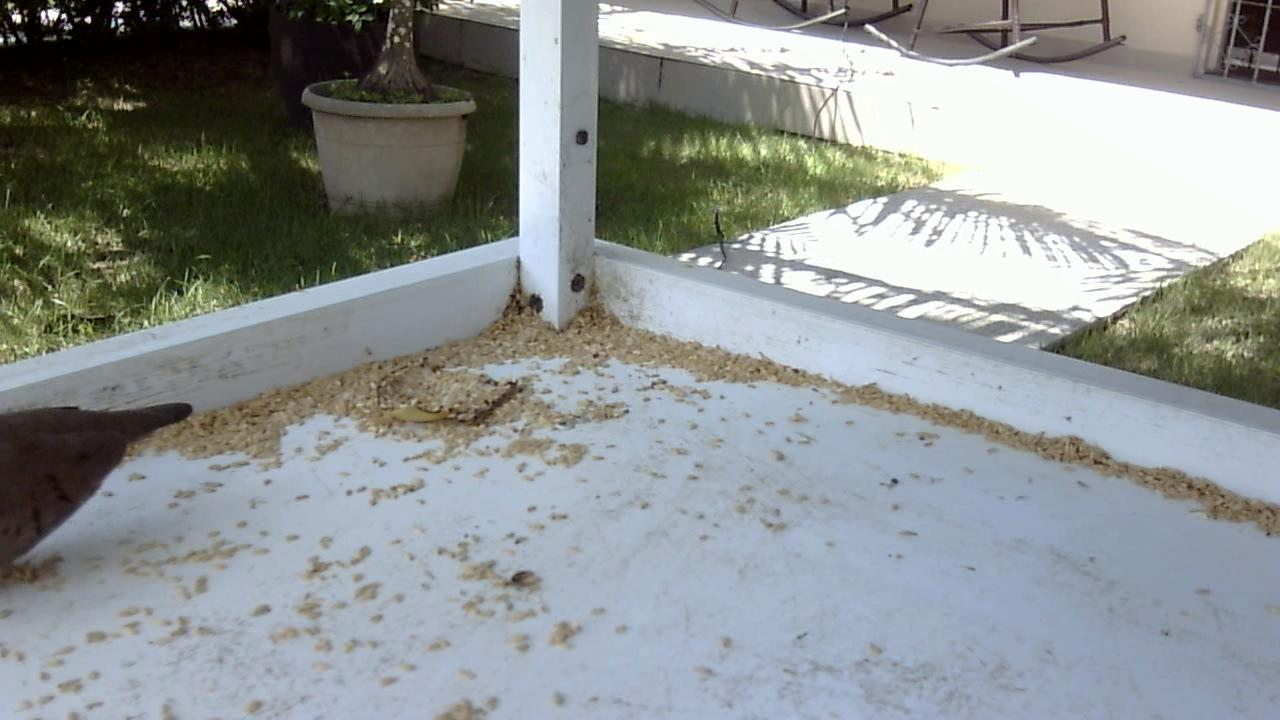rolinha: (1, 393, 195, 584)
